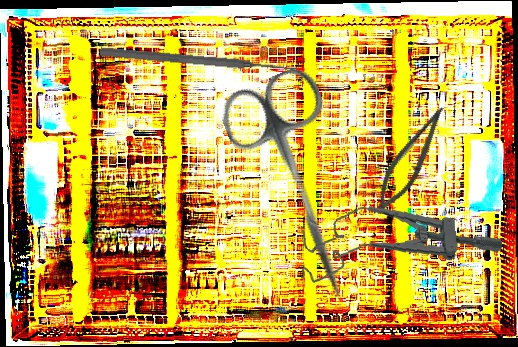Iris Scissors: (213, 62, 392, 315)
Micro Scissor: (369, 98, 452, 218)
Pusher: (99, 45, 298, 76)
Speculum: (295, 194, 504, 285)
